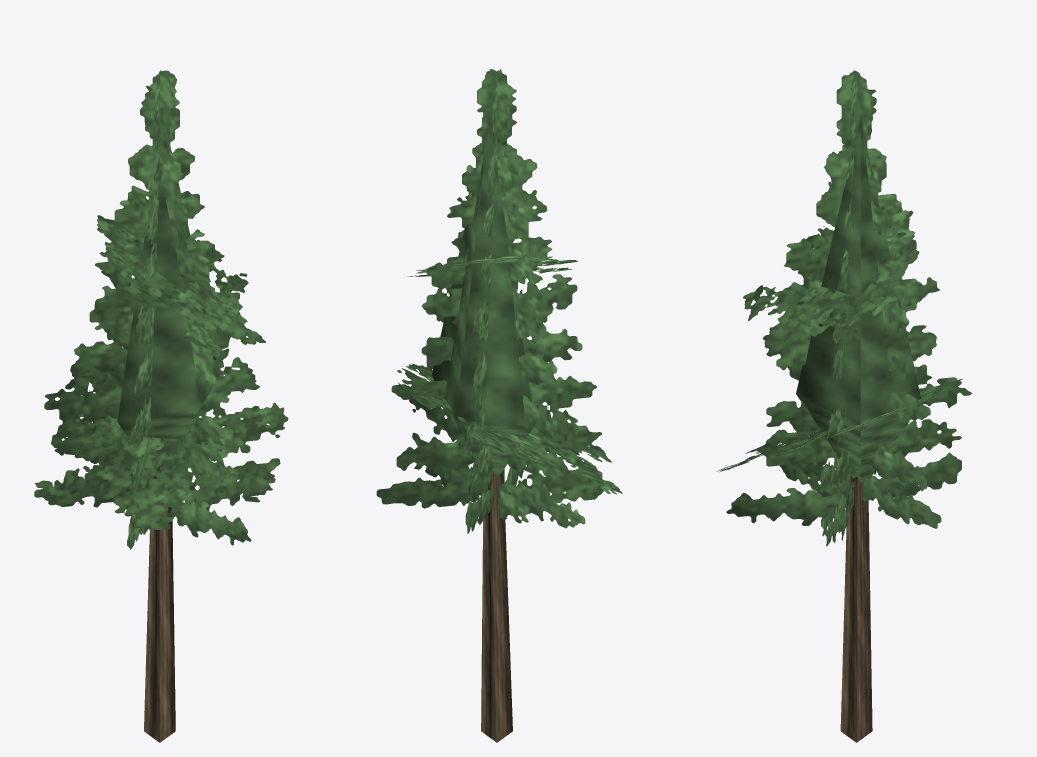
The model's file is tree-conifer-2.glb.
3 views of the same model, side by side, from view 1: azimuth 30°, elevation 25°; view 2: azimuth 150°, elevation 25°; view 3: azimuth 270°, elevation 25° (orthographic).
Visible parts, largest first — view 1: tree-conifer-2; view 2: tree-conifer-2; view 3: tree-conifer-2.
Part boxes in pixels (<box>): tree-conifer-2: <box>34,70,288,742</box>; tree-conifer-2: <box>376,69,622,742</box>; tree-conifer-2: <box>716,70,971,742</box>.
Bounding box in the file's own units: 0.5103 × 1.08 × 0.5092.
1 material, 1 textured.
